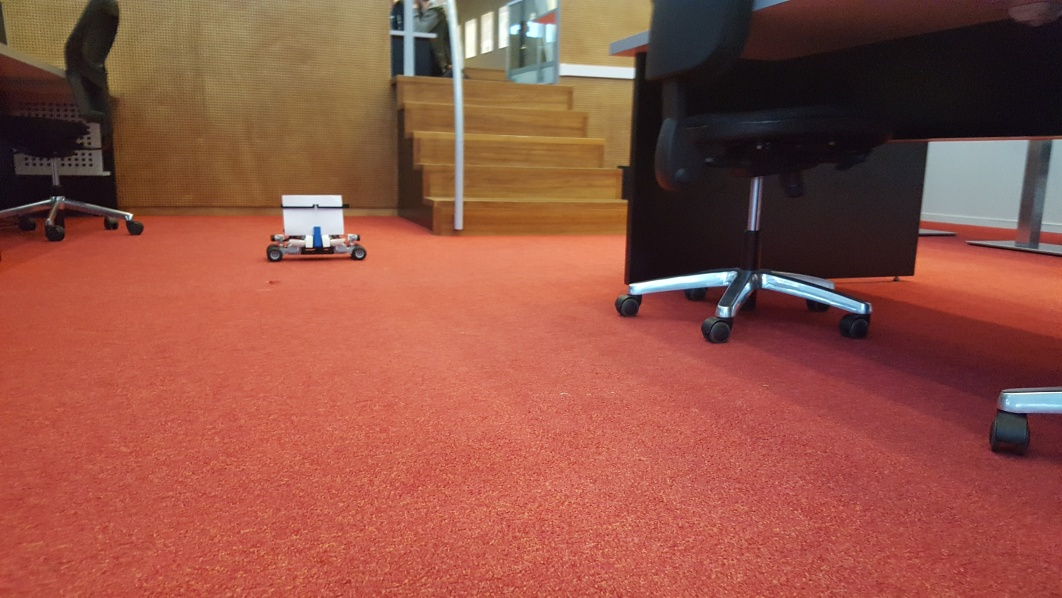car: (266, 193, 368, 260)
